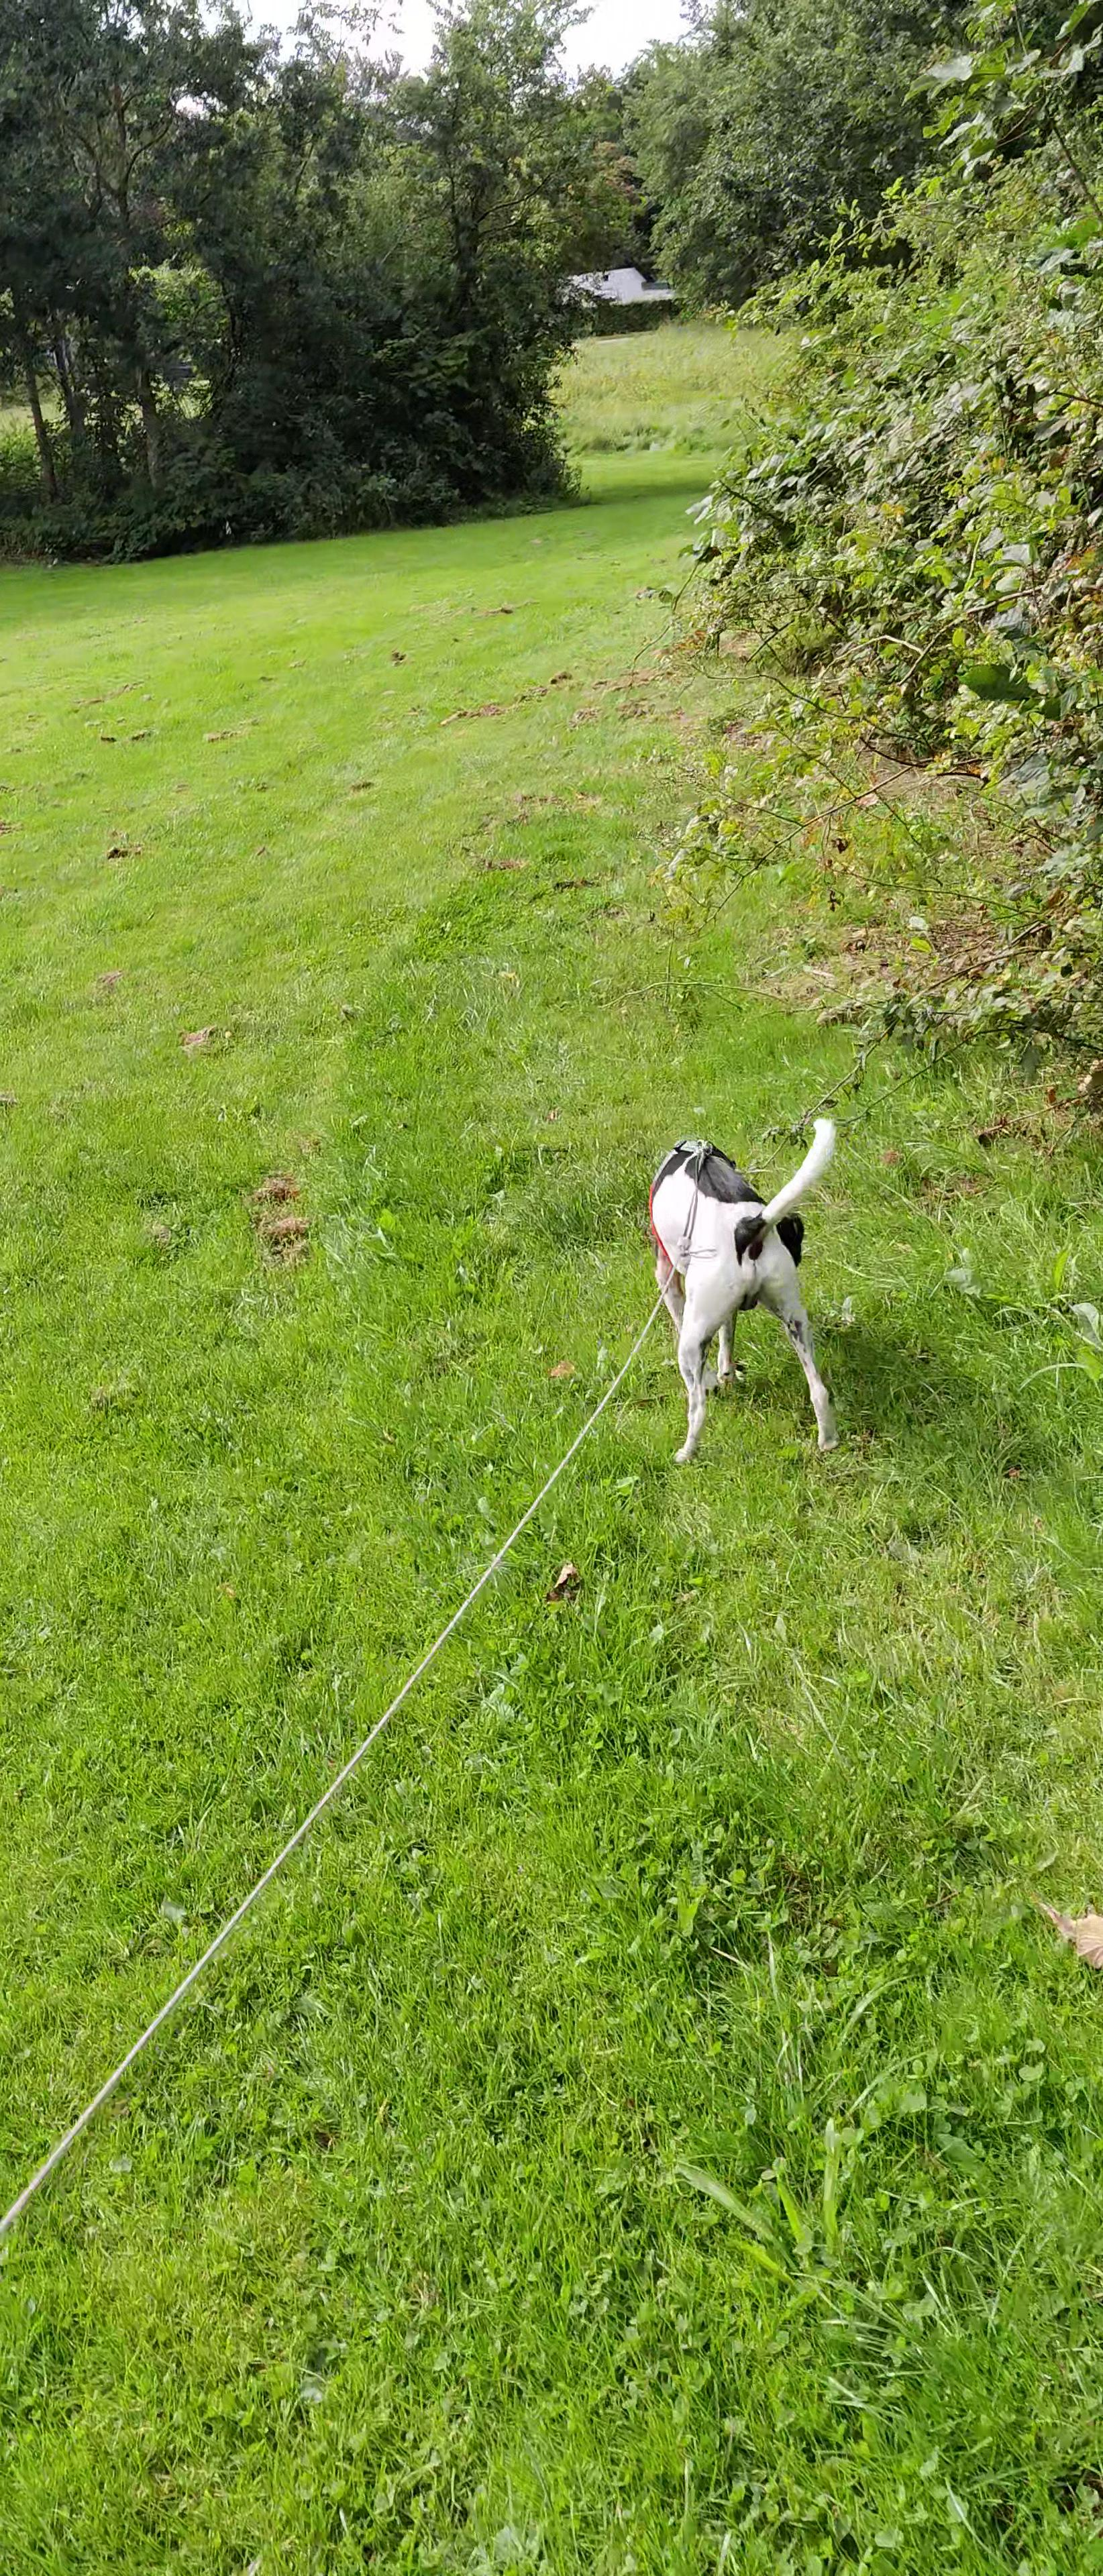Dog: (623, 1089, 866, 1475)
